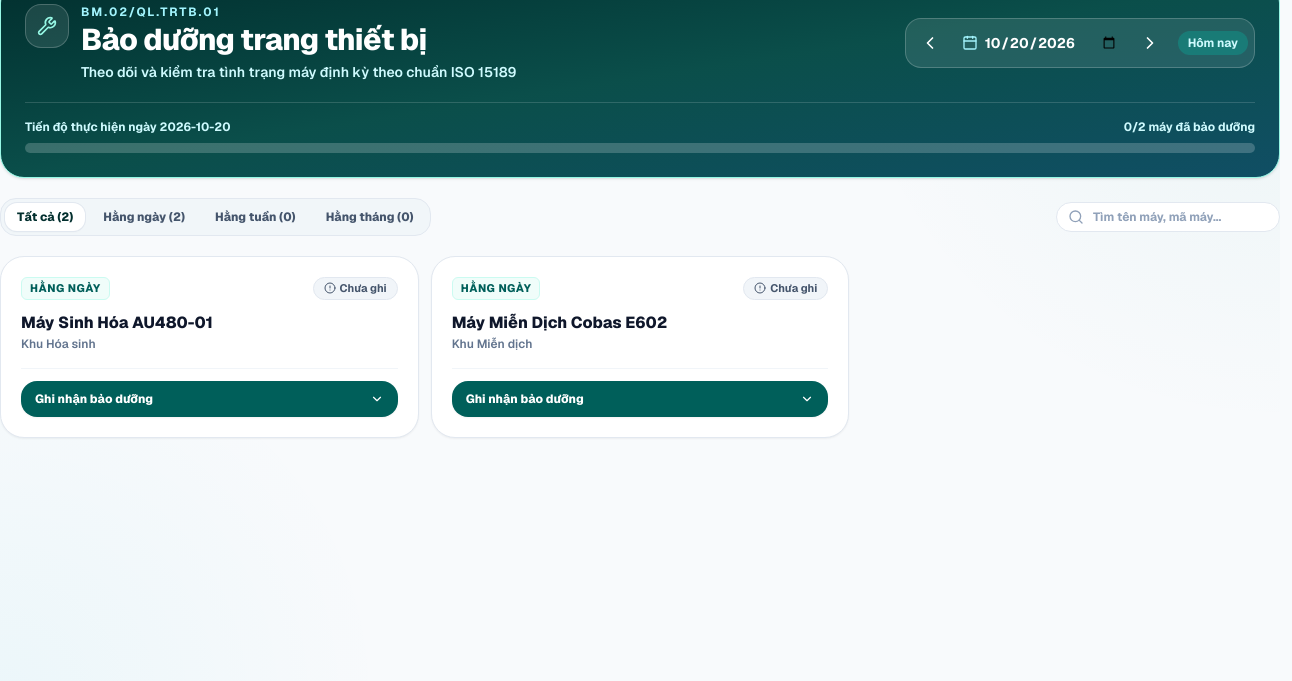
TASK 02A.1: Inline Editing & Live Updates for Maintenance (/maintenance) › 3. Saves inline successfully with real server recordId, updates machine status and counter without fake 'saved' ID or redirect
Expected: the text "0/2 máy đã bảo dưỡng" is shown, [1124,119,1255,135]
Expand AU480
Click the button "Ghi nhận bảo dưỡng" below "Khu Hóa sinh".
click(94, 398)  # box [21,380,398,416]
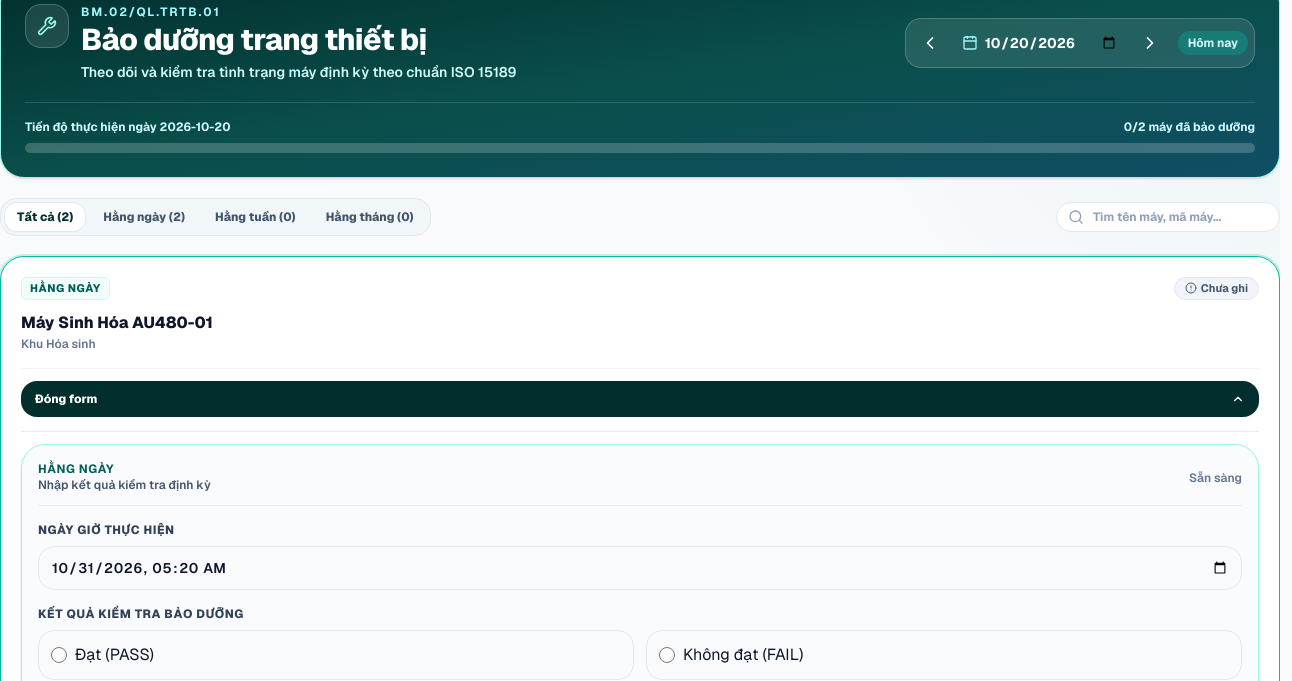
Select "Đạt (PASS)"
Click the radio button labelled "Đạt (PASS)".
click(59, 654)  # box [51,646,67,662]
(page scrolled)
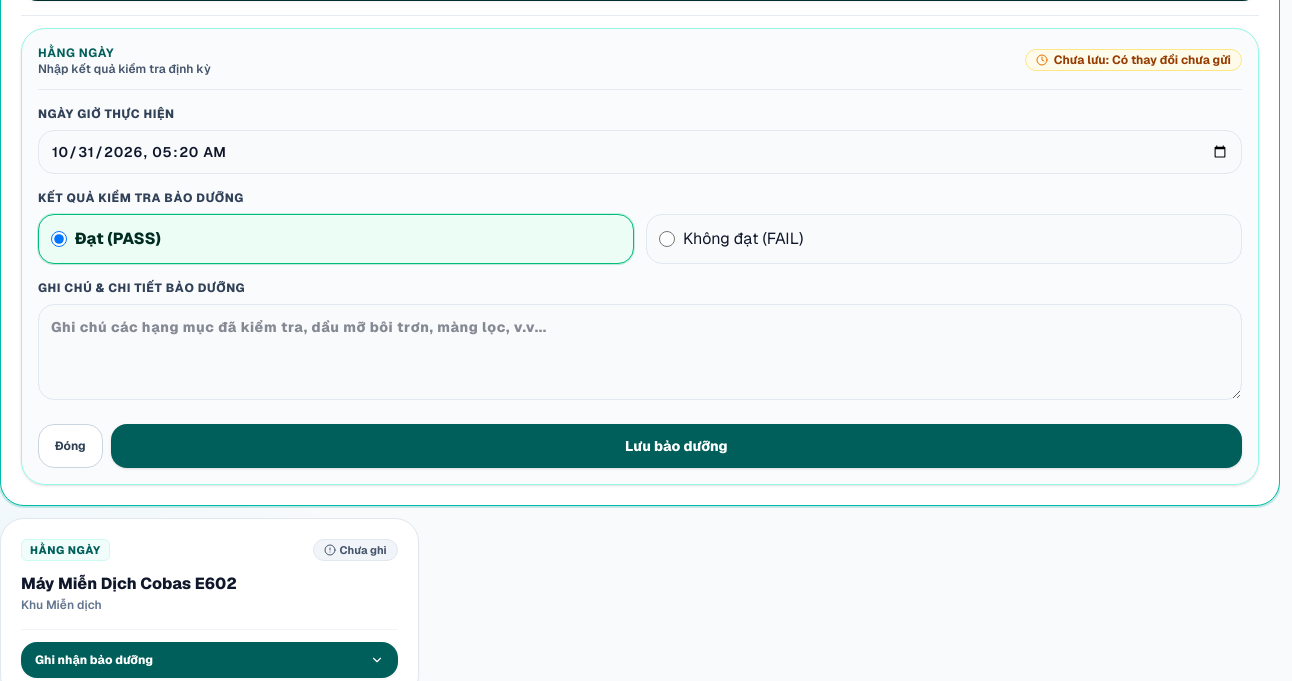
Enter note
Replace the text in the text box with placeholder "Ghi chú các hạng mục" with "Rửa kim hút, kiểm tra nhiệt độ buồng 37°C" at (640,352), box [38,304,1242,400]
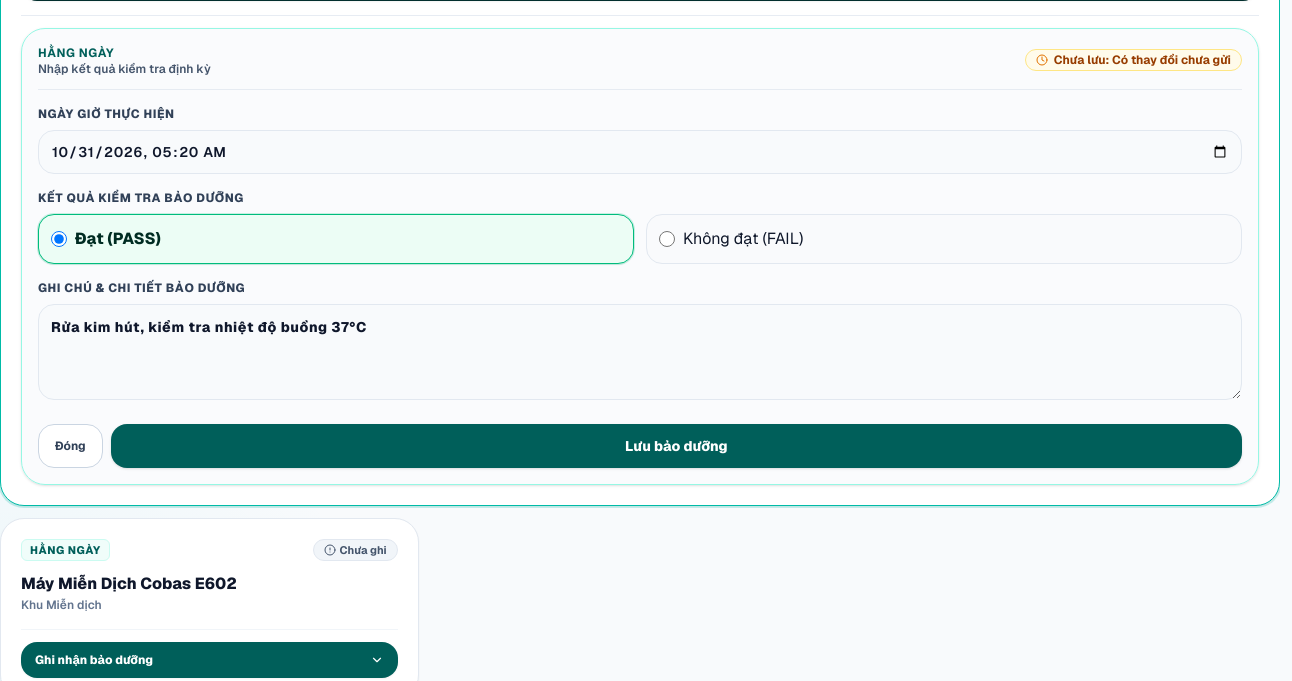
Submit form
Click the button "Lưu bảo dưỡng".
click(676, 446)  # box [111,424,1242,468]
(page scrolled)
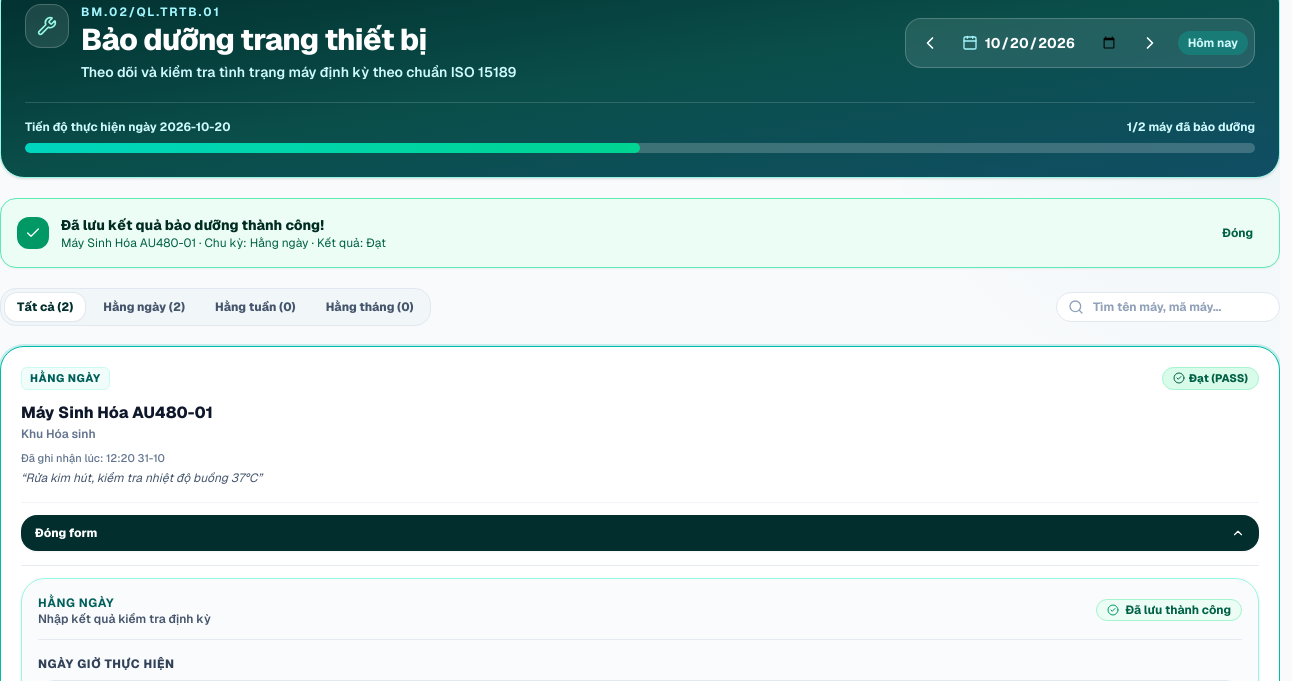
Expected: the text "1/2 máy đã bảo dưỡng" is shown, [1127,119,1255,135]
Expected: the text "Máy Sinh Hóa AU480-01 · Chu kỳ: Hằng ngày · Kết quả: Đạt" is shown, [61,235,386,251]
